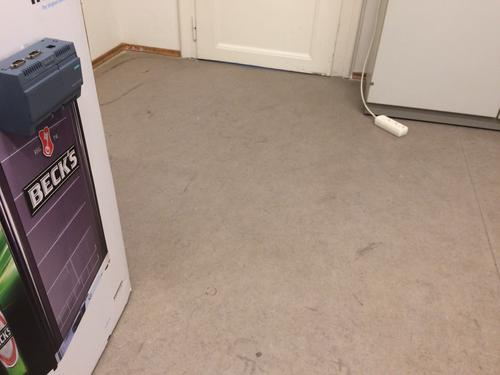iot2000: (1, 37, 85, 138)
